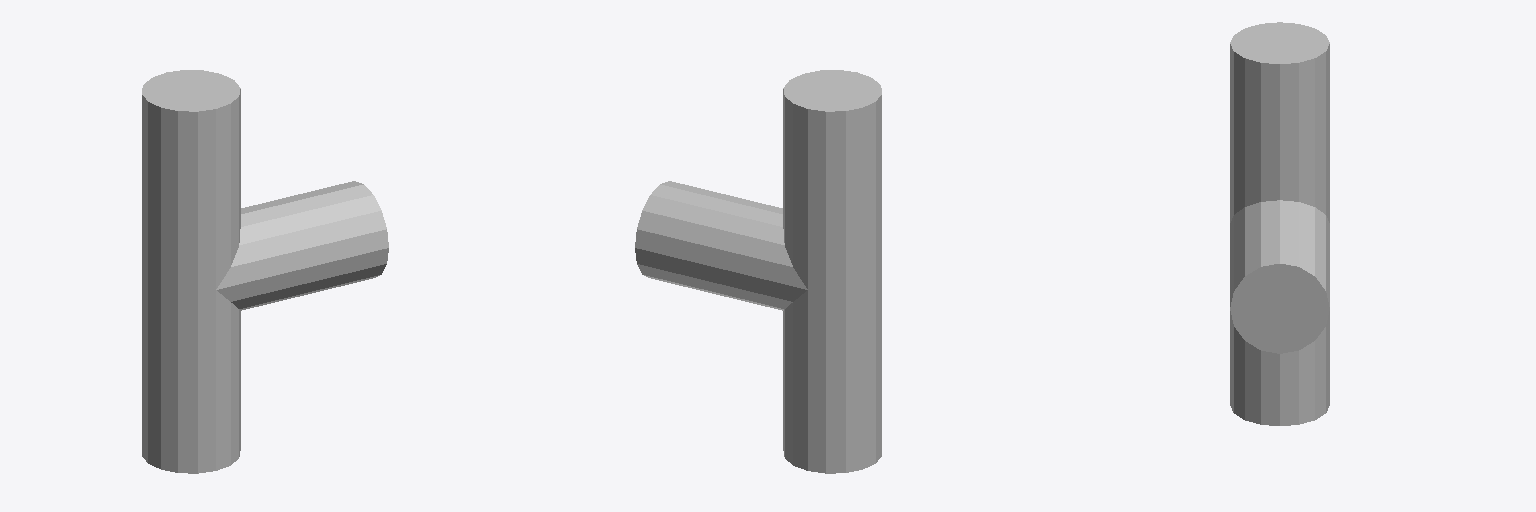
File: joint_hinge2.obj
3 renders of one model, left to right at view 1: azimuth 30°, elevation 25°; view 2: azimuth 150°, elevation 25°; view 3: azimuth 270°, elevation 25°, orthographic.
Parts seen in each view (by area): view 1: cylinder1; view 2: cylinder1; view 3: cylinder1.
Boxes of the visible parts, box(x1,y1,x2,y2) form: cylinder1: box(142, 70, 240, 473); cylinder1: box(783, 70, 881, 473); cylinder1: box(1230, 22, 1329, 425).
Bounding box in the file's own units: 0.3125 × 0.5 × 0.125.